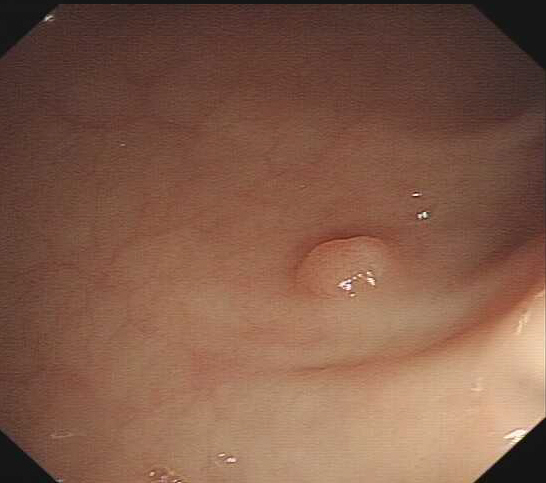adenoma: (291, 232, 394, 296)
